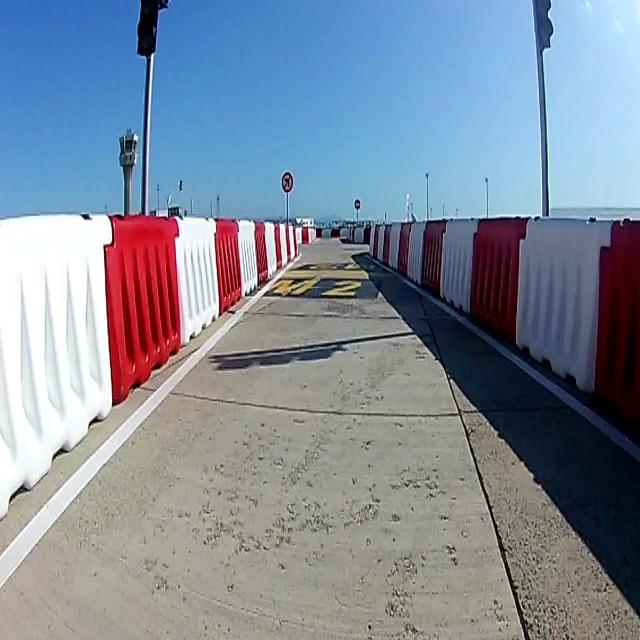soladonulmez: (280, 171, 294, 192)
